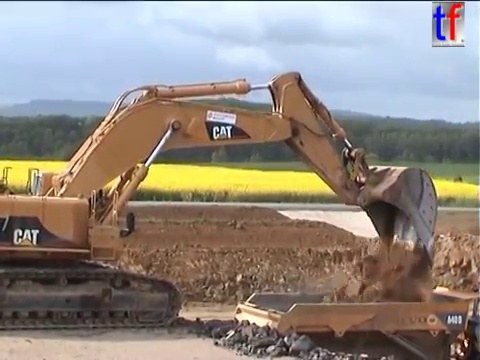excavator: (1, 67, 440, 333)
truck: (230, 284, 480, 360)
